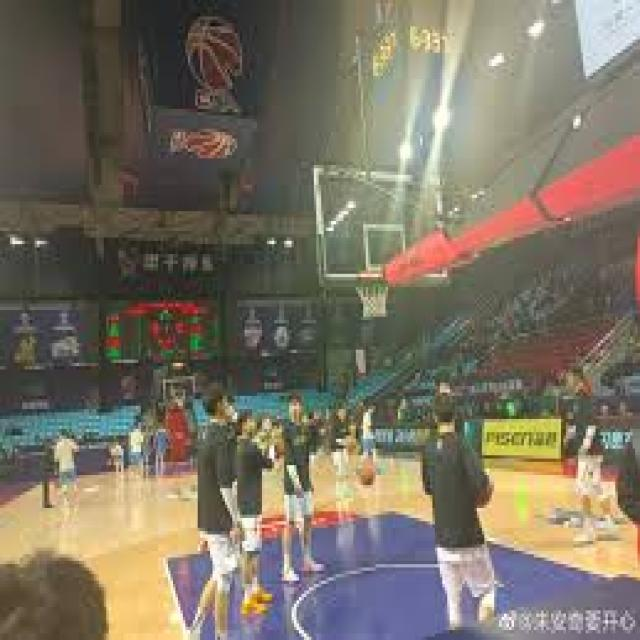rim: (188, 16, 242, 96)
